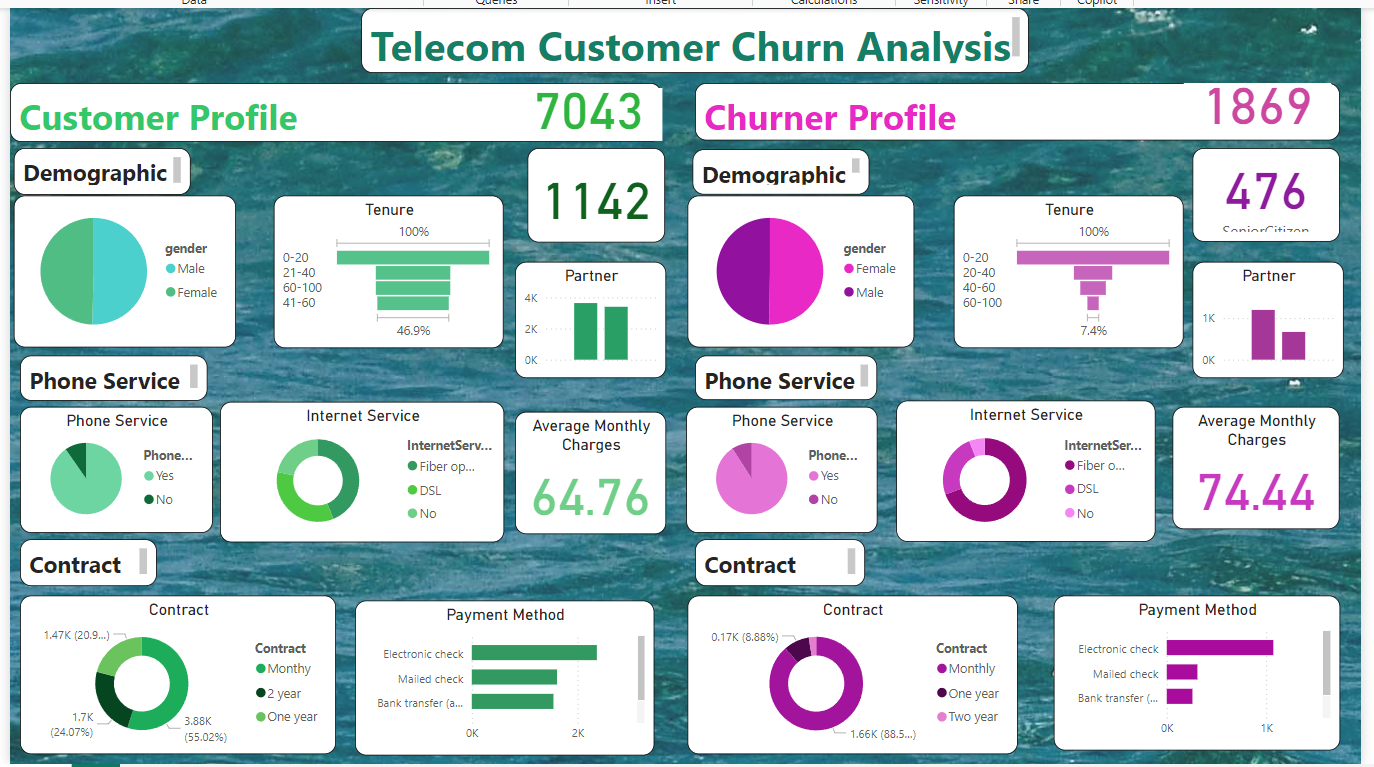

This screenshot's page, from the dashboard's own definition file:
{"tool":"powerbi","page":{"name":"Page 2","canvas":[1430,800],"ordinal":0},"visuals":[{"type":"textbox","box":[371.5,0,706.7,68.9],"z":0},{"type":"textbox","box":[0,79.2,689.8,62.4],"z":1000},{"type":"textbox","box":[724.9,79.2,682,61.1],"z":2000},{"type":"textbox","box":[3.9,148.1,187.1,49.4],"z":3000},{"type":"textbox","box":[10.6,367.7,198.4,47.6],"z":4000},{"type":"textbox","box":[10.9,562.2,144.8,49.5],"z":5000},{"type":"textbox","box":[722.6,148.8,186.9,47.6],"z":6000},{"type":"textbox","box":[725.1,368,193,47.1],"z":7000},{"type":"textbox","box":[725.1,562.2,179.8,49.5],"z":8000},{"type":"pieChart","fields":{"Category":["customers data.gender"],"Y":["CountNonNull(customers data.gender)"]},"box":[3.9,198.8,235.1,161.1],"z":9000},{"type":"pieChart","fields":{"Category":["Churners data.gender"],"Y":["CountNonNull(Churners data.gender)"]},"box":[717.1,198.8,240.3,161.1],"z":10000},{"type":"card","fields":{"Values":["Sum(customers data.SeniorCitizen)"]},"box":[548.1,148.5,145.6,99.9],"z":11000},{"type":"card","fields":{"Values":["Sum(Churners data.SeniorCitizen)"]},"box":[1251.3,148.1,156.1,99.2],"z":12000},{"type":"card","fields":{"Values":["CountNonNull(customers data.Contract)"]},"box":[533.9,84.4,155.9,55.9],"z":13000},{"type":"card","fields":{"Values":["CountNonNull(Churners data.Contract)"]},"box":[1241.9,79.2,155.9,55.9],"z":14000},{"type":"funnel","title":"Tenure","fields":{"Category":["customers data.Tenure_bins"],"Y":["CountNonNull(customers data.Tenure_bins)"]},"box":[279.1,198.4,243.4,161.4],"z":15000},{"type":"funnel","title":"Tenure","fields":{"Category":["Churners data.tenure_bins"],"Y":["CountNonNull(Churners data.tenure_bins)"]},"box":[998.7,198.4,243.4,161.4],"z":16000},{"type":"clusteredColumnChart","title":" Partner","fields":{"Category":["customers data.Partner"],"Y":["CountNonNull(customers data.Partner)"]},"box":[534.4,268.5,160.1,123],"z":17000},{"type":"clusteredColumnChart","title":" Partner","fields":{"Category":["Churners data.Partner"],"Y":["CountNonNull(Churners data.Partner)"]},"box":[1251.3,268.5,160.1,123],"z":18000},{"type":"pieChart","title":" Phone Service","fields":{"Category":["customers data.PhoneService"],"Y":["CountNonNull(customers data.PhoneService)"]},"box":[10.6,422,203.7,133.6],"z":19000},{"type":"pieChart","title":" Phone Service","fields":{"Category":["Churners data.PhoneService"],"Y":["CountNonNull(Churners data.PhoneService)"]},"box":[715.6,422,202.4,133.6],"z":20000},{"type":"donutChart","title":" Contract","fields":{"Y":["CountNonNull(customers data.Contract)"],"Category":["customers data.Contract"]},"box":[10.6,621.7,334.7,168],"z":21000},{"type":"donutChart","title":" Contract","fields":{"Category":["Churners data.Contract"],"Y":["CountNonNull(Churners data.Contract)"]},"box":[716.9,621.7,349.2,168],"z":22000},{"type":"clusteredBarChart","title":"Payment Method","fields":{"Y":["CountNonNull(customers data.PaymentMethod)"],"Category":["customers data.PaymentMethod"]},"box":[365.4,626.6,316.9,164.2],"z":23000},{"type":"clusteredBarChart","title":"Payment Method","fields":{"Category":["Churners data.PaymentMethod"],"Y":["CountNonNull(Churners data.PaymentMethod)"]},"box":[1104.5,621.7,302.9,164],"z":24000},{"type":"donutChart","title":"Internet Service","fields":{"Category":["customers data.InternetService"],"Y":["CountNonNull(customers data.InternetService)"]},"box":[222.7,416.8,301.2,148.5],"z":25000},{"type":"donutChart","title":"Internet Service","fields":{"Category":["Churners data.InternetService"],"Y":["CountNonNull(Churners data.InternetService)"]},"box":[937.8,415.4,274.1,149.9],"z":26000},{"type":"card","title":"Average Monthly Charges","fields":{"Values":["Avg(customers data.MonthlyCharges)"]},"box":[533.9,426.8,159.9,129.9],"z":26001},{"type":"card","title":"Average Monthly Charges","fields":{"Values":["Avg(Churners data.MonthlyCharges)"]},"box":[1230.4,422.5,177,129.9],"z":26002}]}

Visuals, with their boxes in screenshot pixels (x1, y1, x2, y2):
textbox: [left=358, top=4, right=1025, bottom=69]
textbox: [left=7, top=78, right=658, bottom=137]
textbox: [left=691, top=78, right=1335, bottom=136]
textbox: [left=11, top=143, right=187, bottom=190]
textbox: [left=17, top=351, right=204, bottom=396]
textbox: [left=17, top=534, right=154, bottom=581]
textbox: [left=689, top=144, right=866, bottom=189]
textbox: [left=692, top=351, right=874, bottom=395]
textbox: [left=692, top=534, right=861, bottom=581]
pieChart - customers data.gender x CountNonNull(customers data.gender): [left=11, top=191, right=233, bottom=343]
pieChart - Churners data.gender x CountNonNull(Churners data.gender): [left=684, top=191, right=911, bottom=343]
card - Sum(customers data.SeniorCitizen): [left=525, top=144, right=662, bottom=238]
card - Sum(Churners data.SeniorCitizen): [left=1188, top=143, right=1336, bottom=237]
card - CountNonNull(customers data.Contract): [left=511, top=83, right=658, bottom=136]
card - CountNonNull(Churners data.Contract): [left=1179, top=78, right=1327, bottom=131]
"Tenure" funnel: [left=271, top=191, right=500, bottom=343]
"Tenure" funnel: [left=950, top=191, right=1180, bottom=343]
" Partner" clusteredColumnChart: [left=512, top=257, right=663, bottom=373]
" Partner" clusteredColumnChart: [left=1188, top=257, right=1339, bottom=373]
" Phone Service" pieChart: [left=17, top=402, right=209, bottom=528]
" Phone Service" pieChart: [left=683, top=402, right=874, bottom=528]
" Contract" donutChart: [left=17, top=590, right=333, bottom=749]
" Contract" donutChart: [left=684, top=590, right=1013, bottom=749]
"Payment Method" clusteredBarChart: [left=352, top=595, right=651, bottom=750]
"Payment Method" clusteredBarChart: [left=1050, top=590, right=1336, bottom=745]
"Internet Service" donutChart: [left=217, top=397, right=502, bottom=537]
"Internet Service" donutChart: [left=892, top=396, right=1151, bottom=537]
"Average Monthly Charges" card: [left=511, top=406, right=662, bottom=529]
"Average Monthly Charges" card: [left=1169, top=402, right=1336, bottom=525]
